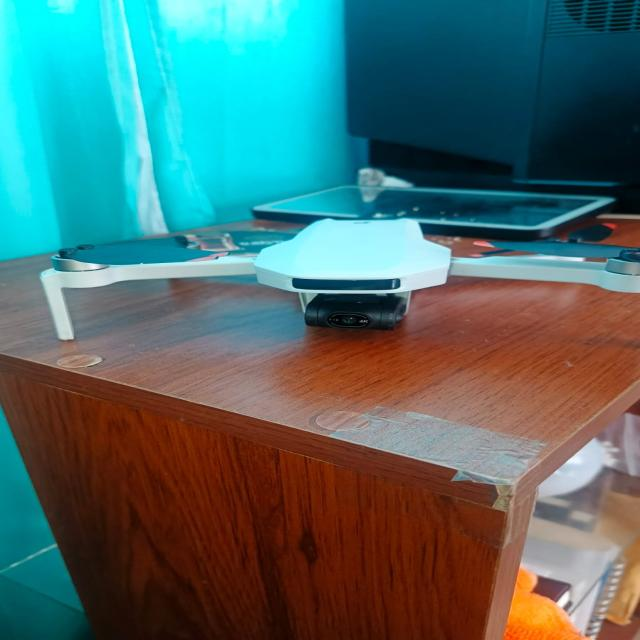dron: (7, 192, 640, 354)
